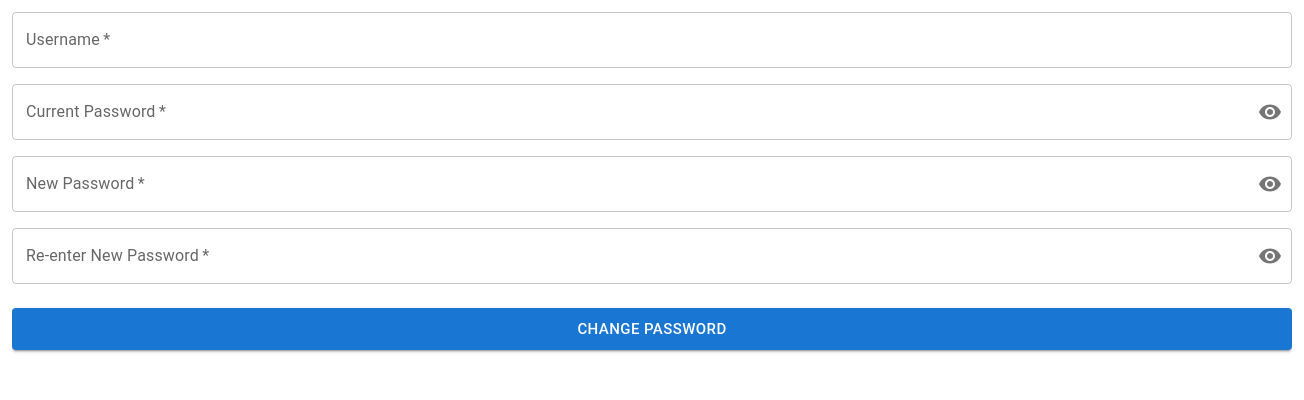
Test: PasswordForm › shows mismatch error when new password and confirm differ
Type "jdoe" into the field labelled "Username *" at (652, 40), box x1=12 y1=12 x2=1292 y2=68
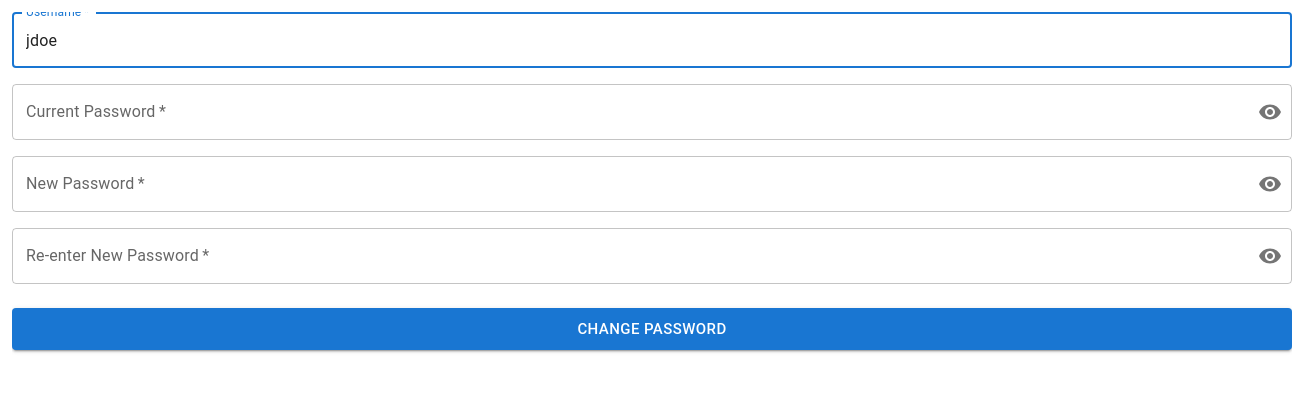
Type "OldPass1!" into the password field labelled "Current Password *" at (627, 112), box x1=12 y1=84 x2=1242 y2=140
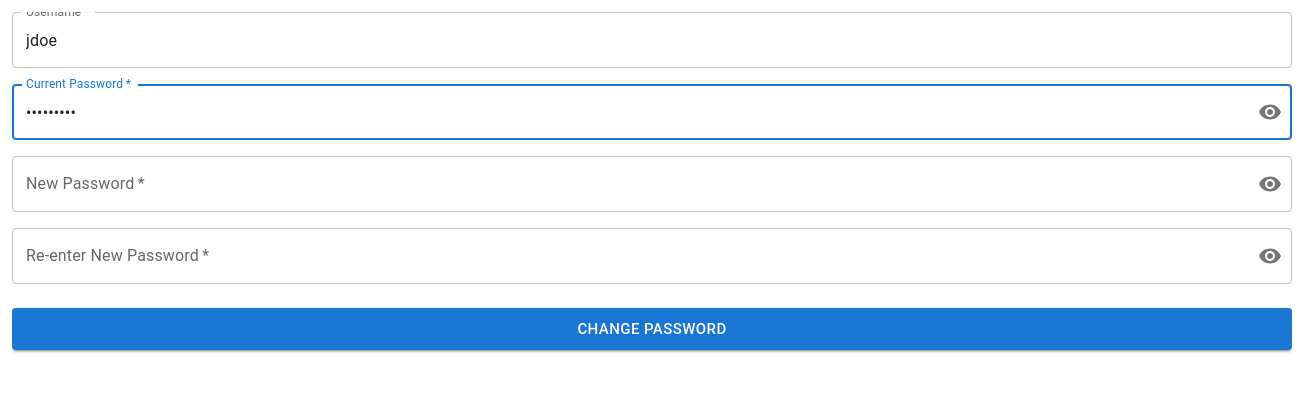
Type "NewPass1!" into the password field labelled "New Password *" at (627, 184), box x1=12 y1=156 x2=1242 y2=212
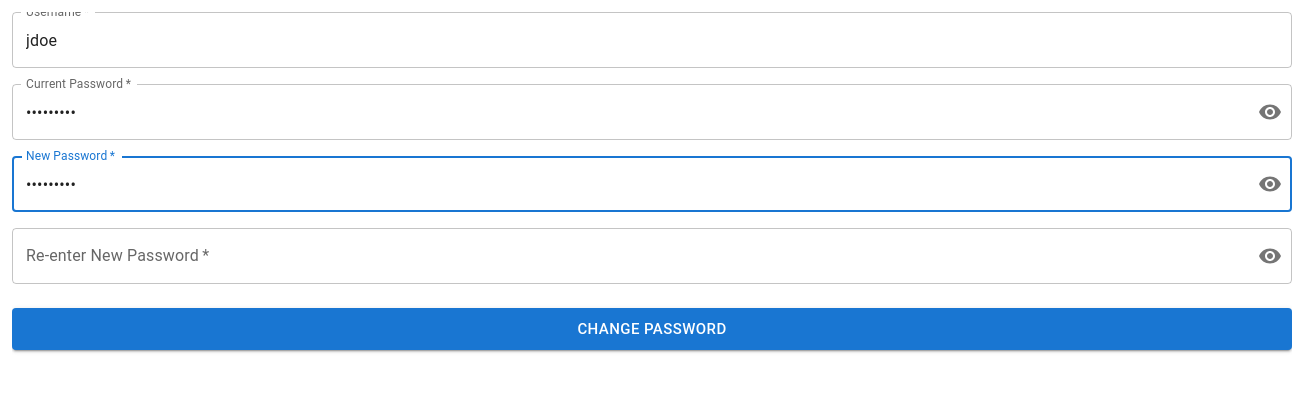
Type "Different2@" into the password field labelled "Re-enter New Password *" at (627, 256), box x1=12 y1=228 x2=1242 y2=284
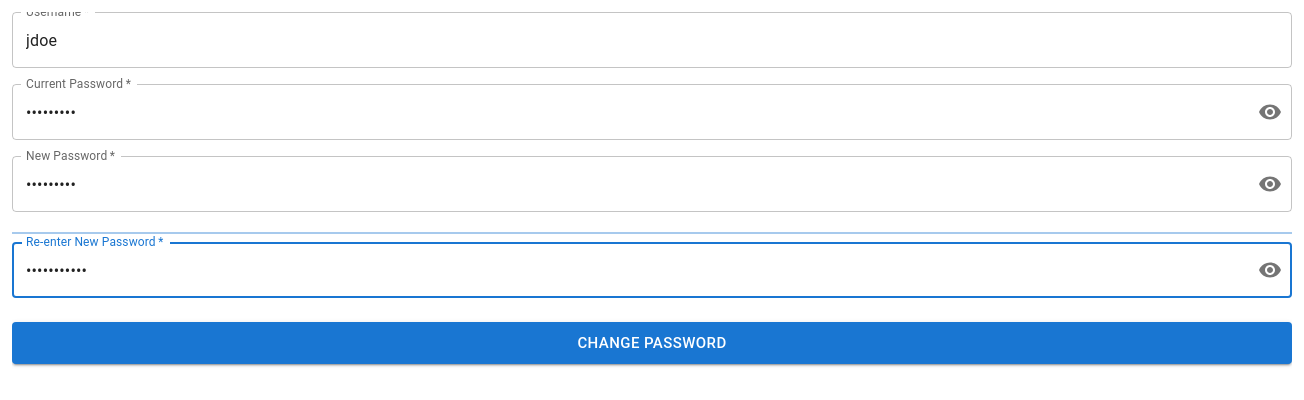
Click the button "Change Password" at (652, 343), box x1=12 y1=322 x2=1292 y2=364
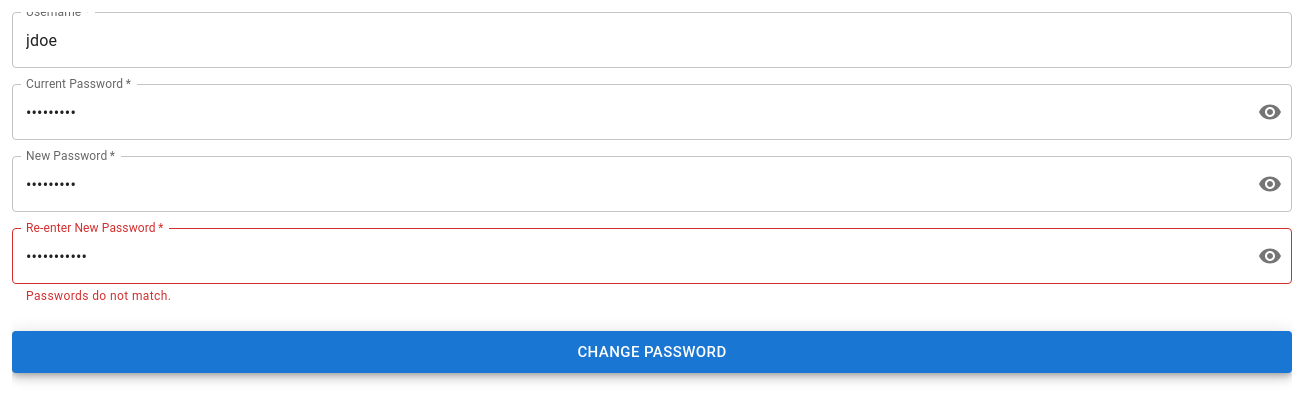
Check: the text "Passwords do not match." is shown, box x1=26 y1=289 x2=171 y2=303
